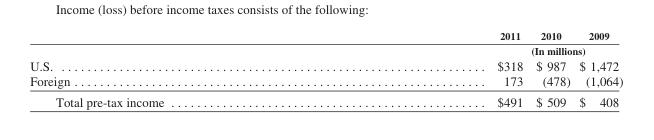table: (29, 29, 622, 108)
table column: (29, 29, 330, 108), (330, 29, 528, 108), (574, 29, 622, 108), (528, 29, 574, 108)
table column header: (29, 29, 622, 57)
table row: (29, 73, 622, 91), (29, 91, 622, 108), (29, 57, 622, 73), (29, 42, 622, 57), (29, 29, 622, 42)
table spanning cell: (330, 42, 622, 57)
